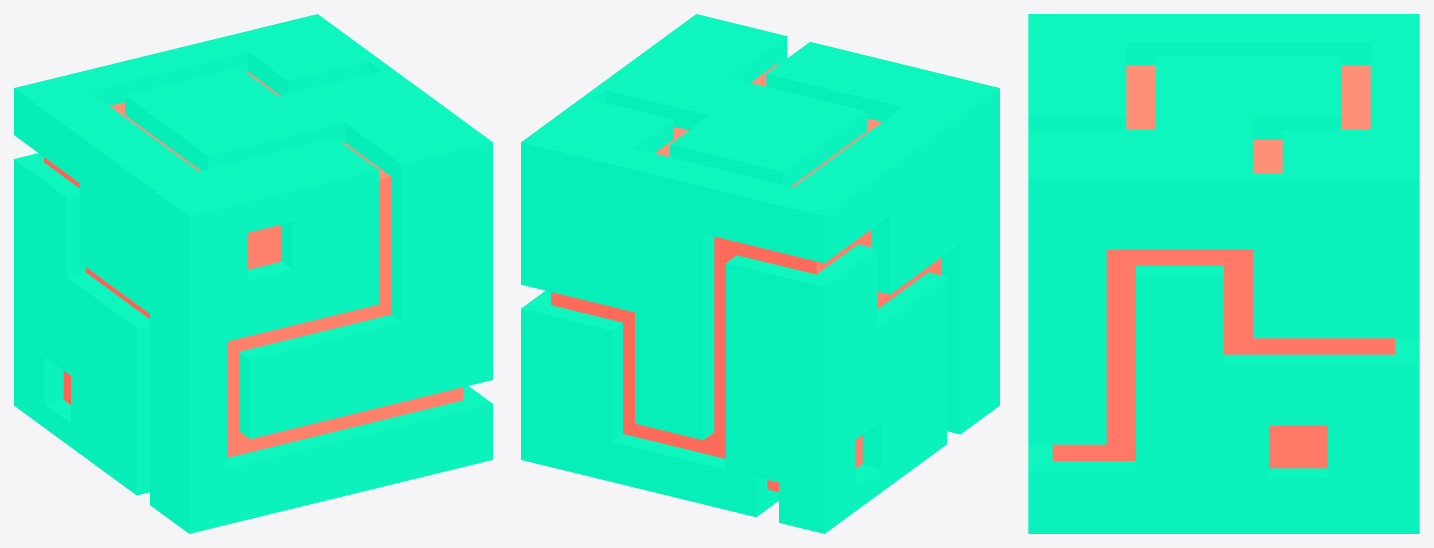
The picture shows the model from 3 angles, left to right: view 1: azimuth 30°, elevation 25°; view 2: azimuth 150°, elevation 25°; view 3: azimuth 270°, elevation 25°; orthographic projection. The views are drawn at different scales.
Parts seen in each view (by area): view 1: main, light; view 2: main, light; view 3: main, light.
Part boxes in pixels (box(x1,y1,x2,y2)): main: box(14, 14, 492, 533); light: box(44, 72, 462, 457); main: box(521, 14, 999, 533); light: box(551, 64, 941, 492); main: box(1028, 14, 1419, 533); light: box(1052, 65, 1395, 468).
Size of the model in its own units: 2 by 2 by 2.
